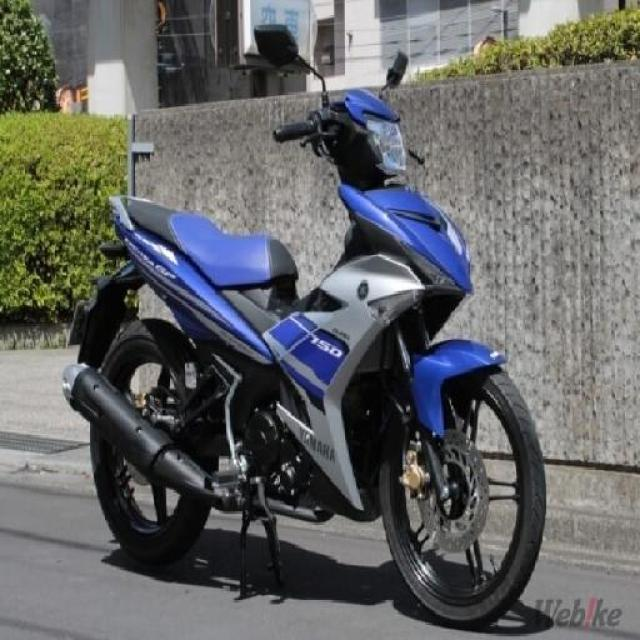All: (60, 84, 544, 620)
Head: (273, 93, 427, 179)
Tail: (96, 187, 166, 258)
